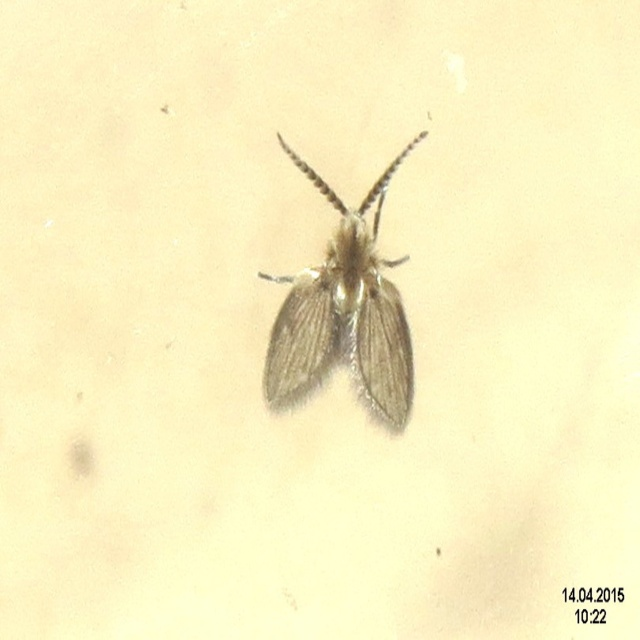Moths and butterflies: (257, 122, 433, 427)
